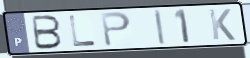1: (173, 8, 192, 45)
B: (30, 14, 64, 51)
I: (152, 8, 167, 47)
K: (207, 8, 238, 42)
L: (67, 14, 98, 48)
P: (99, 11, 133, 49)
